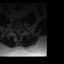CCS_normal: (17, 27, 19, 34)
LFS_normal: (20, 26, 22, 32)
LLS_normal: (19, 27, 20, 33)
RFS_normal: (14, 26, 15, 32)
RLS_normal: (15, 27, 17, 34)
